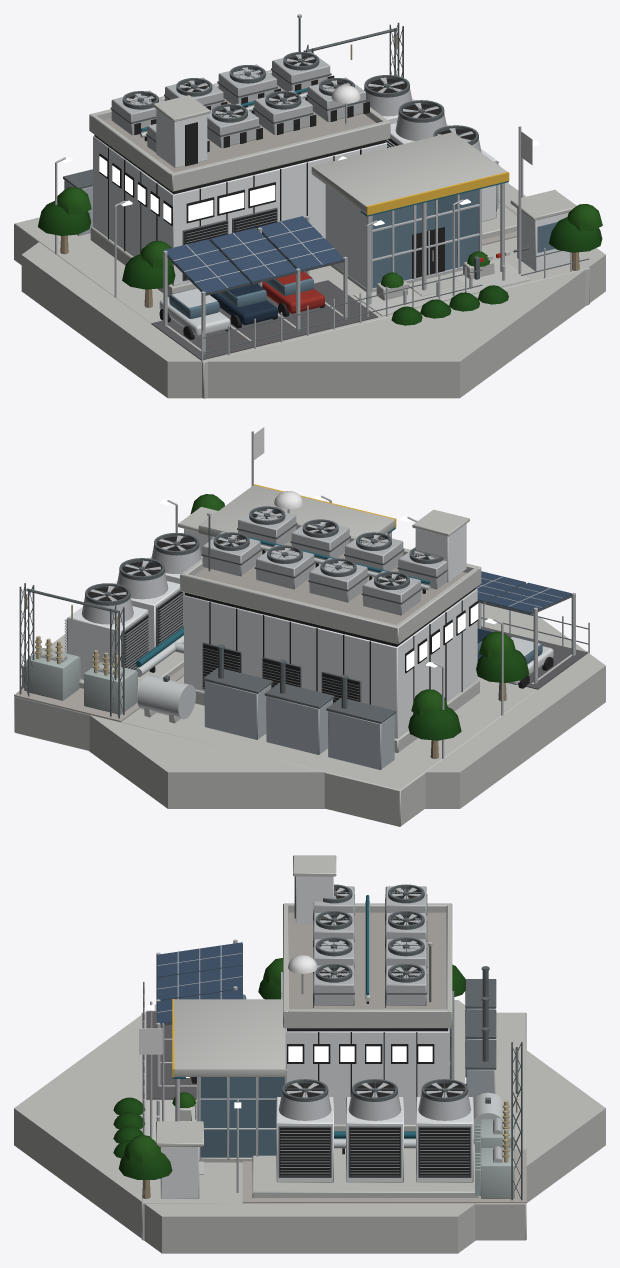
The model's file is aiDataCenter.glb.
The picture shows the model from 3 angles, top to bottom: view 1: azimuth 30°, elevation 25°; view 2: azimuth 150°, elevation 25°; view 3: azimuth 270°, elevation 25°; orthographic projection.
Visible parts, largest first — view 1: wall_concrete, metal, cladding, steel_dark, dark, leaf, solar, glass, paint, asphalt, gravel, pavers (+2 smaller); view 2: wall_concrete, metal, cladding, steel_dark, dark, paint, gravel, leaf, solar, asphalt, glow_cyan; view 3: wall_concrete, metal, cladding, steel_dark, dark, gravel, glass, solar, leaf, paint, asphalt, glow_cyan (+2 smaller).
Boxes of the visible parts, x1,y1,x2,y2 form: wall_concrete: (14, 70, 605, 398); metal: (55, 14, 571, 361); cladding: (93, 98, 570, 287); steel_dark: (63, 18, 589, 353); dark: (94, 56, 475, 339); leaf: (38, 187, 602, 325); solar: (163, 216, 344, 293); glass: (169, 189, 557, 318); paint: (140, 33, 510, 336); asphalt: (151, 280, 377, 360); gravel: (103, 85, 516, 245); pavers: (353, 259, 530, 316); wall_concrete: (14, 485, 605, 826); metal: (26, 431, 589, 769); cladding: (67, 524, 477, 738); steel_dark: (19, 506, 588, 723); dark: (88, 511, 553, 713); paint: (26, 491, 553, 719); gravel: (14, 539, 467, 722); leaf: (190, 494, 529, 740); solar: (476, 571, 571, 612); asphalt: (481, 626, 587, 689); glow_cyan: (406, 603, 478, 670); wall_concrete: (14, 855, 605, 1253); metal: (143, 886, 514, 1198); cladding: (160, 876, 473, 1198); steel_dark: (143, 884, 522, 1200); dark: (191, 876, 469, 1176); gravel: (242, 912, 526, 1203); glass: (160, 994, 284, 1178); solar: (157, 942, 242, 1023); leaf: (113, 958, 465, 1179); paint: (172, 895, 517, 1162); asphalt: (146, 1011, 196, 1099); glow_cyan: (288, 1046, 432, 1061).
Size of the model in its own units: 21.3 by 10.3 by 24.6.
